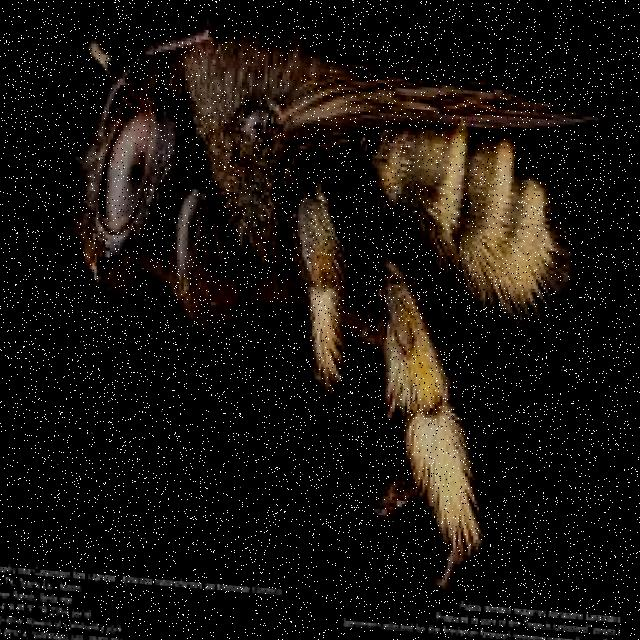Lasioglossum: (48, 14, 612, 569)
